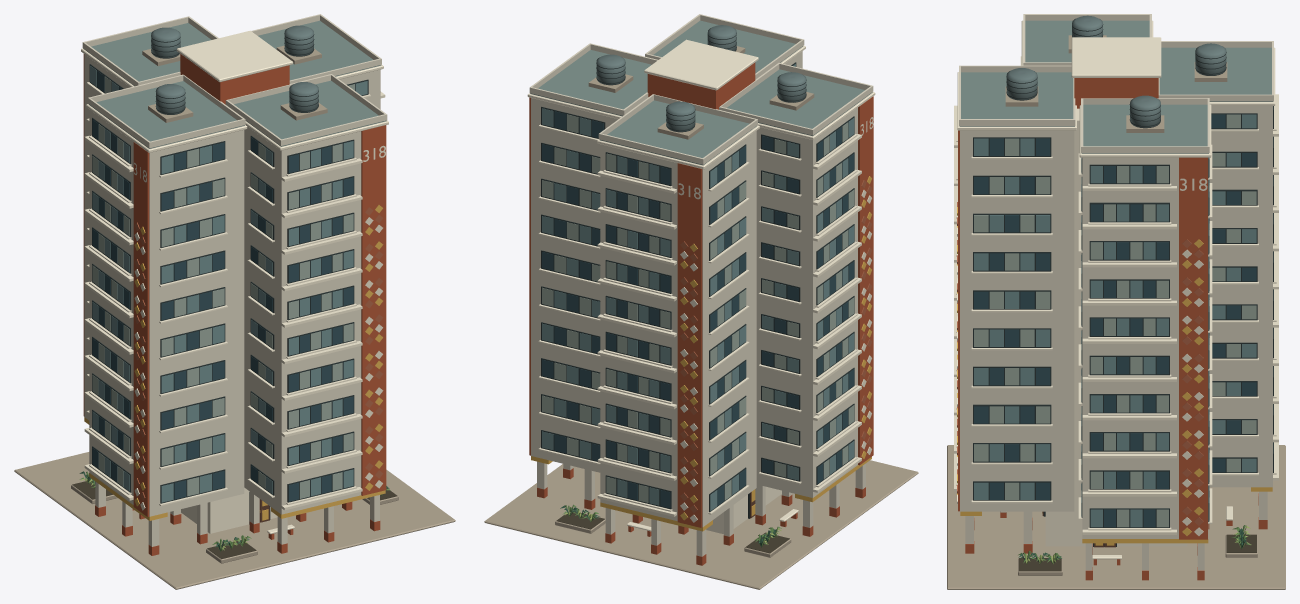
3 renders of one model, left to right at view 1: azimuth 30°, elevation 25°; view 2: azimuth 150°, elevation 25°; view 3: azimuth 270°, elevation 25°, orthographic. The views are drawn at different scales.
Parts seen in each view (by area): view 1: Four offset dwelling stacks, Aluminium ribbon casements, Void deck and benches, Porcelain sunburst panels, Lift overrun, Pressed steel water tanks, Garden beds, Tank plinths, Tank hoops; view 2: Four offset dwelling stacks, Aluminium ribbon casements, Void deck and benches, Porcelain sunburst panels, Lift overrun, Pressed steel water tanks, Garden beds, Tank plinths, Tank hoops; view 3: Four offset dwelling stacks, Aluminium ribbon casements, Void deck and benches, Porcelain sunburst panels, Lift overrun, Pressed steel water tanks, Garden beds, Tank plinths, Tank hoops, Pandan planting.
Boxes of the visible parts, x1,y1,x2,y2 form: Four offset dwelling stacks: (81,14,388,533); Aluminium ribbon casements: (86,64,380,505); Void deck and benches: (14,417,455,589); Porcelain sunburst panels: (83,54,386,516); Lift overrun: (176,30,293,104); Pressed steel water tanks: (151,25,318,114); Garden beds: (71,481,398,563); Tank plinths: (142,45,327,122); Tank hoops: (151,33,318,113); Four offset dwelling stacks: (527,14,875,534); Aluminium ribbon casements: (538,62,857,514); Void deck and benches: (484,456,918,589); Porcelain sunburst panels: (529,96,873,527); Lift overrun: (644,39,758,109); Pressed steel water tanks: (596,25,806,132); Garden beds: (555,511,791,557); Tank plinths: (588,46,814,139); Tank hoops: (596,32,806,130); Four offset dwelling stacks: (954,14,1278,546); Aluminium ribbon casements: (956,56,1276,530); Void deck and benches: (947,445,1285,589); Porcelain sunburst panels: (957,130,1207,539); Lift overrun: (1071,37,1161,108); Pressed steel water tanks: (1006,15,1226,128); Garden beds: (1018,534,1257,575); Tank plinths: (1005,35,1227,132); Tank hoops: (1006,24,1226,126); Pandan planting: (1018,525,1251,564).
Bounding box in the file's own units: 23.4 × 35.25 × 23.4.
